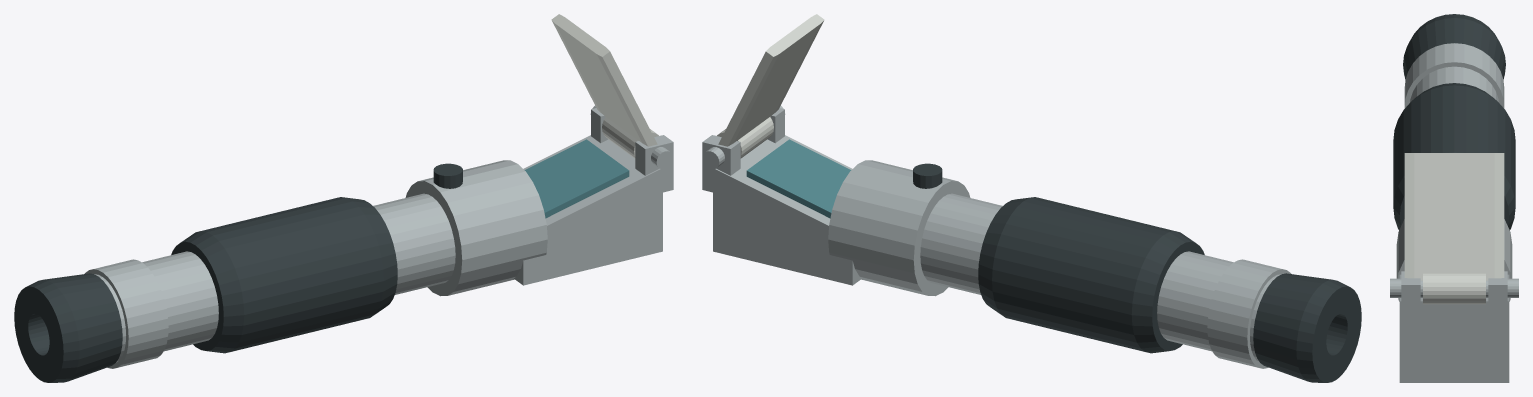
3 views of the same model, side by side, from view 1: azimuth 30°, elevation 25°; view 2: azimuth 150°, elevation 25°; view 3: azimuth 270°, elevation 25° (orthographic). The views are drawn at different scales.
Parts seen in each view (by area): view 1: WholeBroadGripSleeve, WholeFrontShoulder, WholeLongOcularBarrel, WholeSlopingSampleHead, WholeRearEyecup, WholeFocusCollar, WholeRaisedSampleCover, WholeOpaqueInsetPlate, WholeCoverHingeEar0, WholeCoverHingeSleeve, WholeUpperAdjustmentPlug; view 2: WholeBroadGripSleeve, WholeFrontShoulder, WholeLongOcularBarrel, WholeSlopingSampleHead, WholeRearEyecup, WholeFocusCollar, WholeRaisedSampleCover, WholeOpaqueInsetPlate, WholeCoverHingeEar1, WholeCoverHingeSleeve, WholeUpperAdjustmentPlug; view 3: WholeRaisedSampleCover, WholeBroadGripSleeve, WholeSlopingSampleHead, WholeRearEyecup, WholeFocusCollar, WholeCoverHingeSleeve, WholeLongOcularBarrel, WholeCoverHingeEar0, WholeCoverHingeEar1, WholeFrontShoulder, WholeTransverseHingePin.
Boxes of the visible parts, box(x1,y1,x2,y2) form: WholeBroadGripSleeve: box(171, 197, 397, 353); WholeFrontShoulder: box(405, 160, 547, 296); WholeLongOcularBarrel: box(94, 193, 455, 362); WholeSlopingSampleHead: box(514, 135, 662, 285); WholeRearEyecup: box(14, 273, 122, 382); WholeFocusCollar: box(84, 259, 168, 368); WholeRaisedSampleCover: box(551, 14, 657, 146); WholeOpaqueInsetPlate: box(524, 139, 629, 218); WholeCoverHingeEar0: box(635, 135, 673, 192); WholeCoverHingeSleeve: box(602, 117, 658, 158); WholeUpperAdjustmentPlug: box(433, 163, 462, 188); WholeBroadGripSleeve: box(978, 197, 1204, 353); WholeFrontShoulder: box(828, 160, 970, 296); WholeLongOcularBarrel: box(920, 193, 1281, 362); WholeSlopingSampleHead: box(713, 135, 861, 285); WholeRearEyecup: box(1253, 273, 1361, 382); WholeFocusCollar: box(1207, 259, 1291, 368); WholeRaisedSampleCover: box(718, 14, 824, 146); WholeOpaqueInsetPlate: box(746, 139, 851, 218); WholeCoverHingeEar1: box(702, 135, 740, 192); WholeCoverHingeSleeve: box(717, 117, 773, 158); WholeUpperAdjustmentPlug: box(913, 163, 942, 188); WholeRaisedSampleCover: box(1404, 153, 1504, 280); WholeBroadGripSleeve: box(1393, 83, 1515, 230); WholeSlopingSampleHead: box(1399, 274, 1509, 382); WholeRearEyecup: box(1403, 14, 1505, 79); WholeFocusCollar: box(1404, 43, 1504, 108); WholeCoverHingeSleeve: box(1423, 273, 1485, 304); WholeLongOcularBarrel: box(1410, 66, 1498, 102); WholeCoverHingeEar0: box(1401, 271, 1420, 331); WholeCoverHingeEar1: box(1488, 271, 1507, 331); WholeFrontShoulder: box(1396, 219, 1512, 301); WholeTransverseHingePin: box(1390, 278, 1518, 297).
Bounding box in the file's own units: 0.426 × 0.1514 × 0.08.
